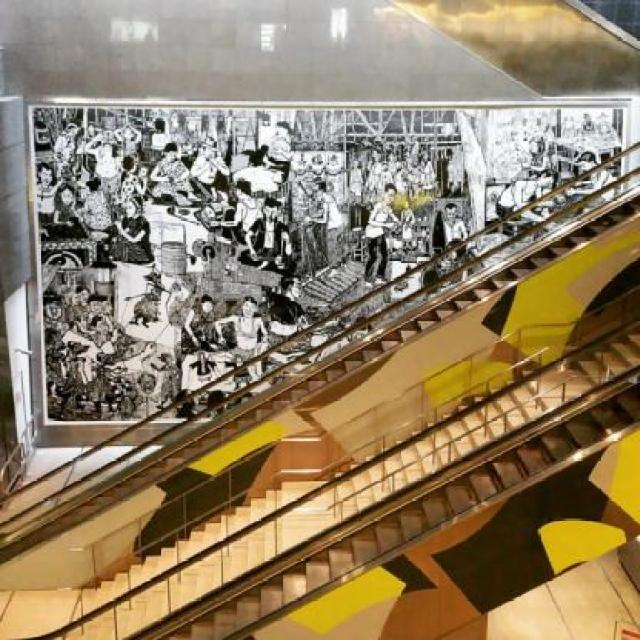stair: (37, 184, 638, 534), (89, 316, 640, 638), (167, 386, 640, 638)
